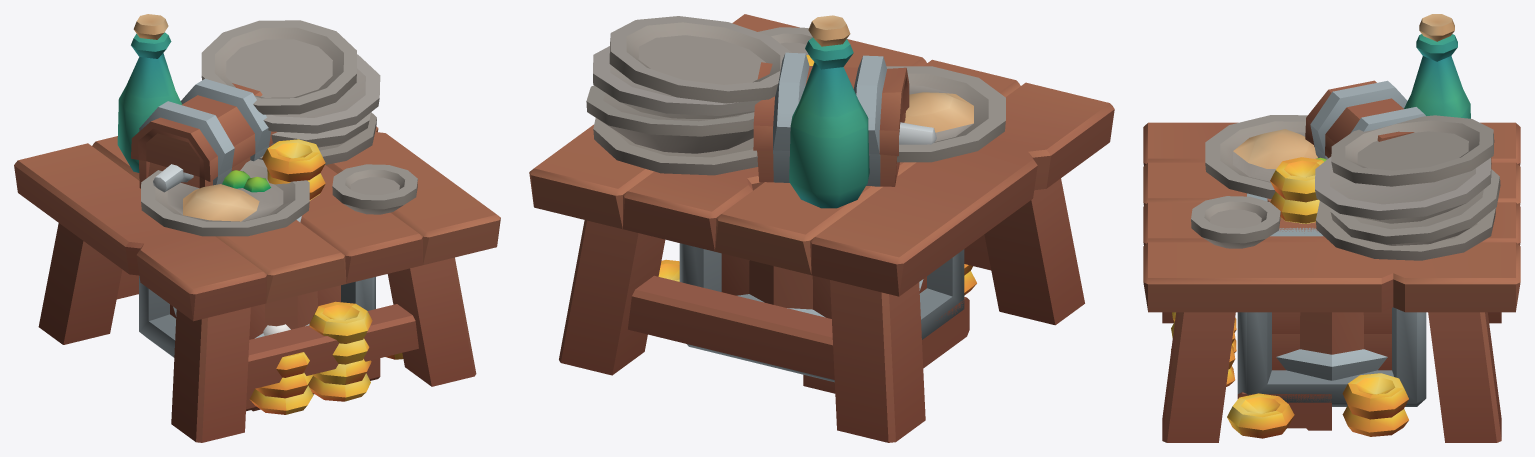
The model's file is holding-apothecary.glb.
3 views of the same model, side by side, from view 1: azimuth 30°, elevation 25°; view 2: azimuth 150°, elevation 25°; view 3: azimuth 270°, elevation 25° (orthographic). The views are drawn at different scales.
Parts seen in each view (by area): view 1: table_medium_decorated_A, box_small_decorated, barrel_small, shelf_small_candles; view 2: table_medium_decorated_A, box_small_decorated, barrel_small, shelf_small_candles; view 3: table_medium_decorated_A, box_small_decorated, barrel_small, shelf_small_candles.
Boxes of the visible parts, x1=… form: table_medium_decorated_A: x1=14, y1=14, x2=500, y2=442; box_small_decorated: x1=131, y1=78, x2=403, y2=414; barrel_small: x1=173, y1=291, x2=317, y2=338; shelf_small_candles: x1=246, y1=324, x2=380, y2=411; table_medium_decorated_A: x1=529, y1=14, x2=1114, y2=442; box_small_decorated: x1=658, y1=52, x2=976, y2=382; barrel_small: x1=737, y1=260, x2=923, y2=317; shelf_small_candles: x1=803, y1=297, x2=969, y2=393; table_medium_decorated_A: x1=1143, y1=14, x2=1520, y2=442; box_small_decorated: x1=1171, y1=80, x2=1426, y2=438; barrel_small: x1=1267, y1=199, x2=1387, y2=380; shelf_small_candles: x1=1237, y1=392, x2=1331, y2=430.
Size of the model in its own units: 2 by 2.19 by 2.
Materials: 2 (2 with a texture image).
